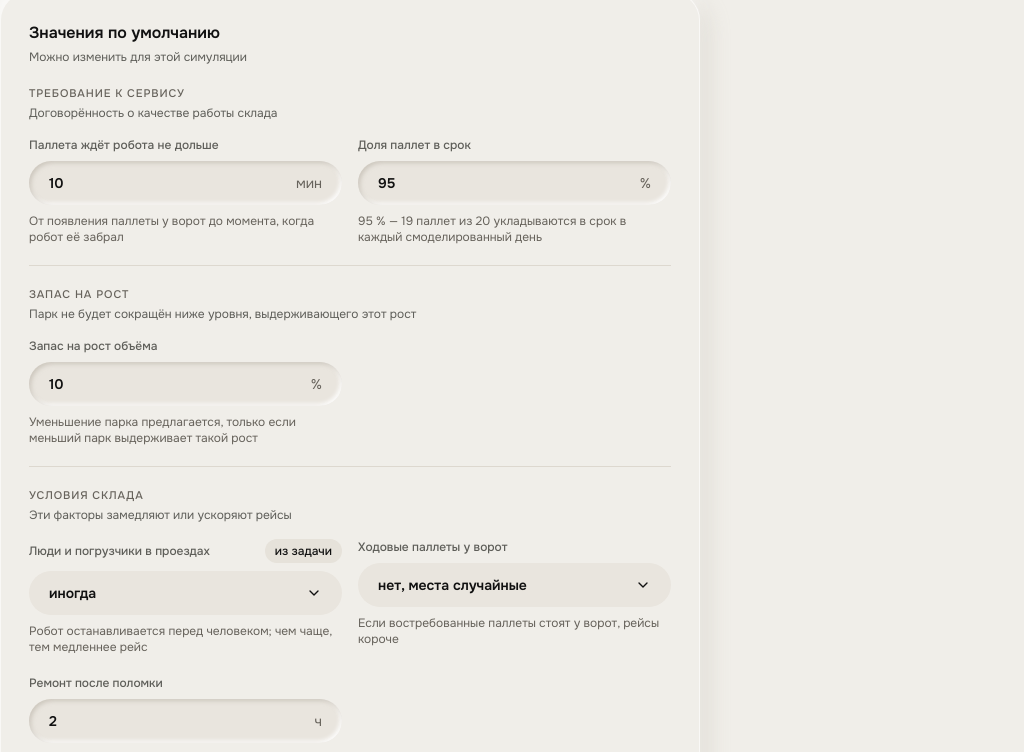
it: Шаг 3 «Симуляция», этап 2 «Условия симуляции» (3.2 доски, 16325:158; PRD 11.4, D-102) › правка условия сохраняется, метка — «указано», прошлый прогон устарел (D-89)
(page scrolled)
Replace the text in the field labelled "Запас на рост объёма" with "20". click: (176, 384)
box: x1=49 y1=374 x2=303 y2=394
(page scrolled)
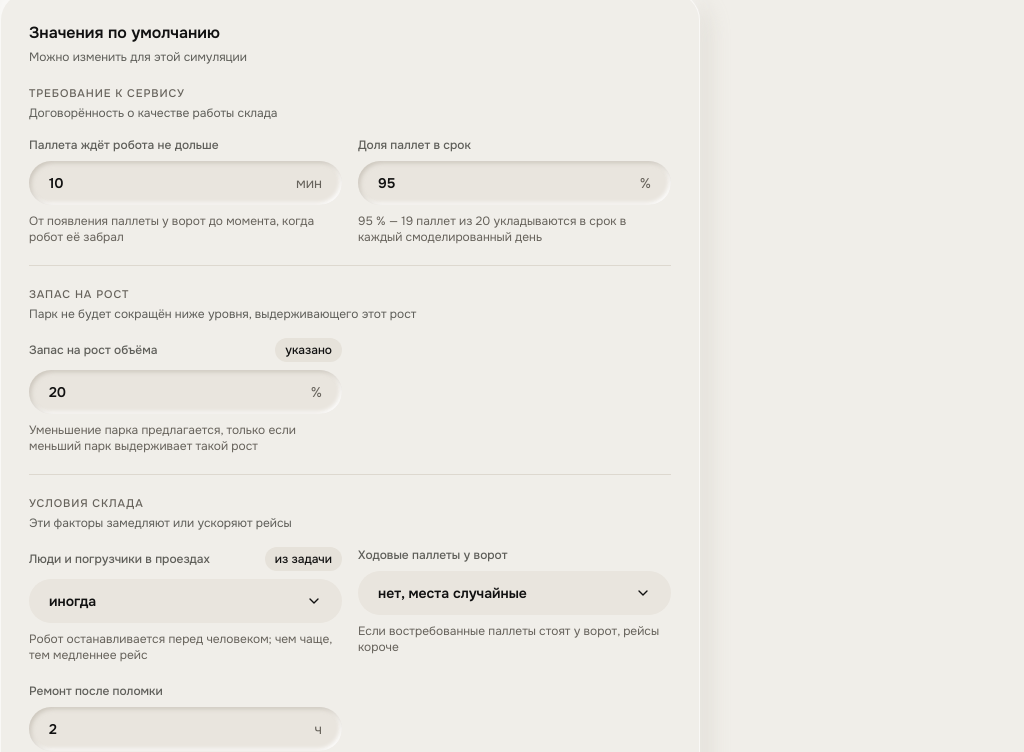
Check: the text "указано" is shown, box x1=275 y1=338 x2=342 y2=362
